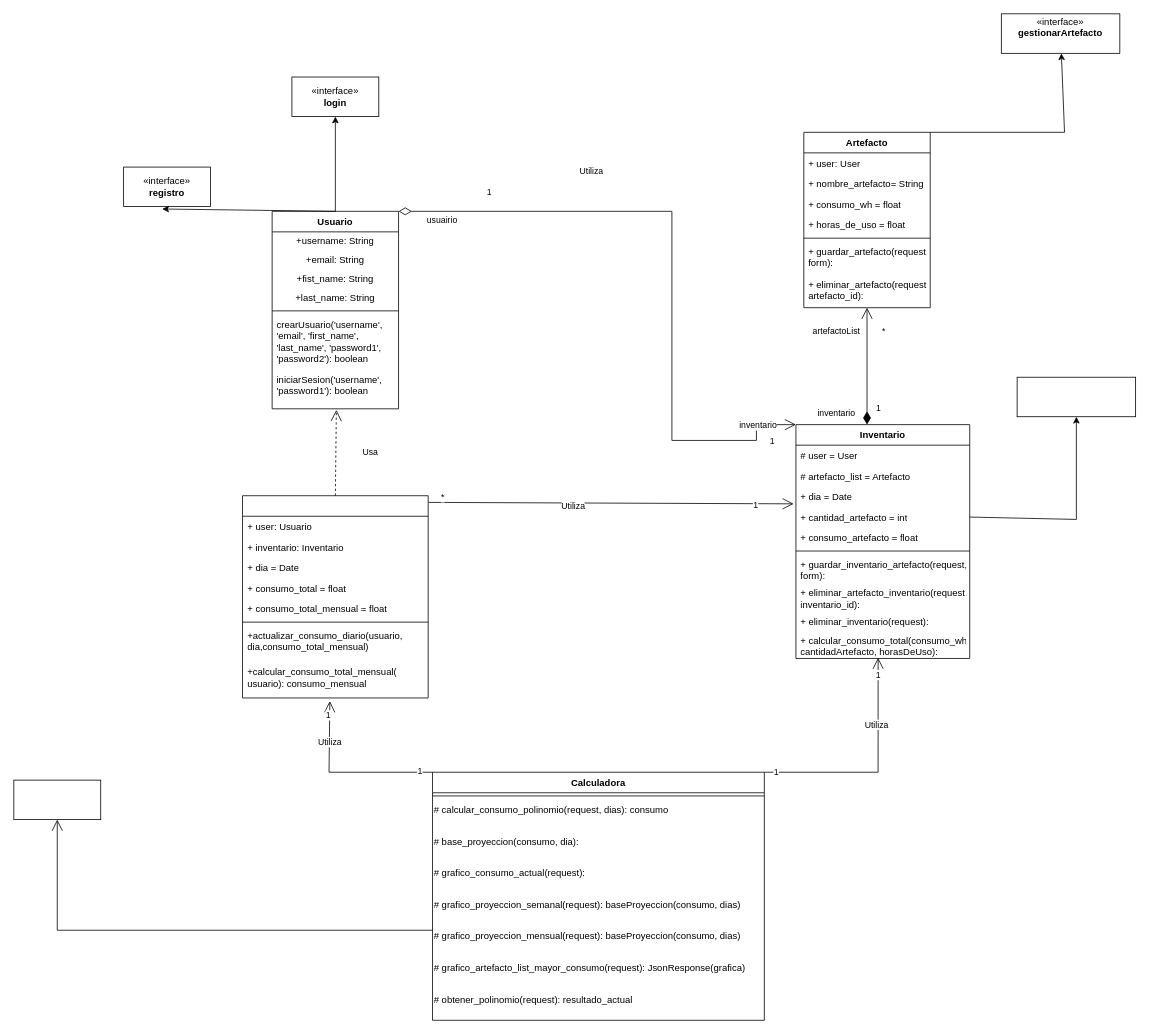
The diagram is 1149 pixels wide and 1034 high, and some of its shapes have lost their labels. Each missing label, with the box of its shape:
Informe: (242, 495, 428, 698)
«interface» gestionarInventario: (1016, 376, 1136, 417)
«interface» proyecciones: (13, 779, 101, 820)
